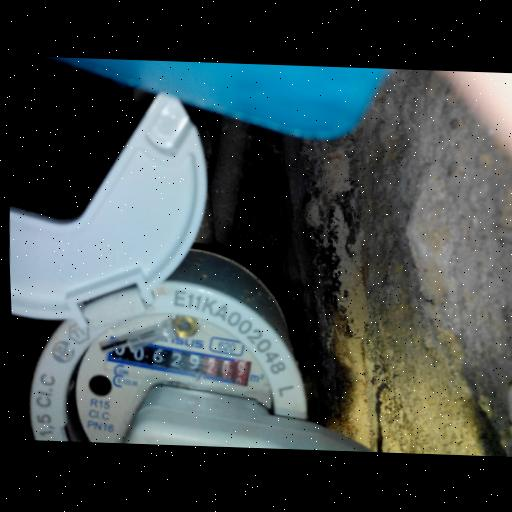0: (110, 339, 133, 362), (128, 342, 151, 365), (217, 359, 237, 381)
2: (164, 349, 187, 371), (200, 356, 221, 378)
6: (146, 346, 170, 368)
9: (231, 358, 252, 386), (183, 353, 204, 375)
border_water_meter_number: (103, 334, 253, 386)
